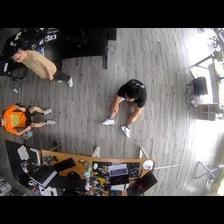fall: (101, 78, 148, 137)
normal: (8, 45, 75, 89), (1, 104, 56, 135)
